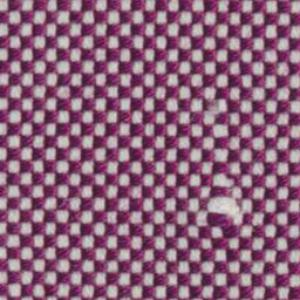defect: (200, 91, 249, 235)
